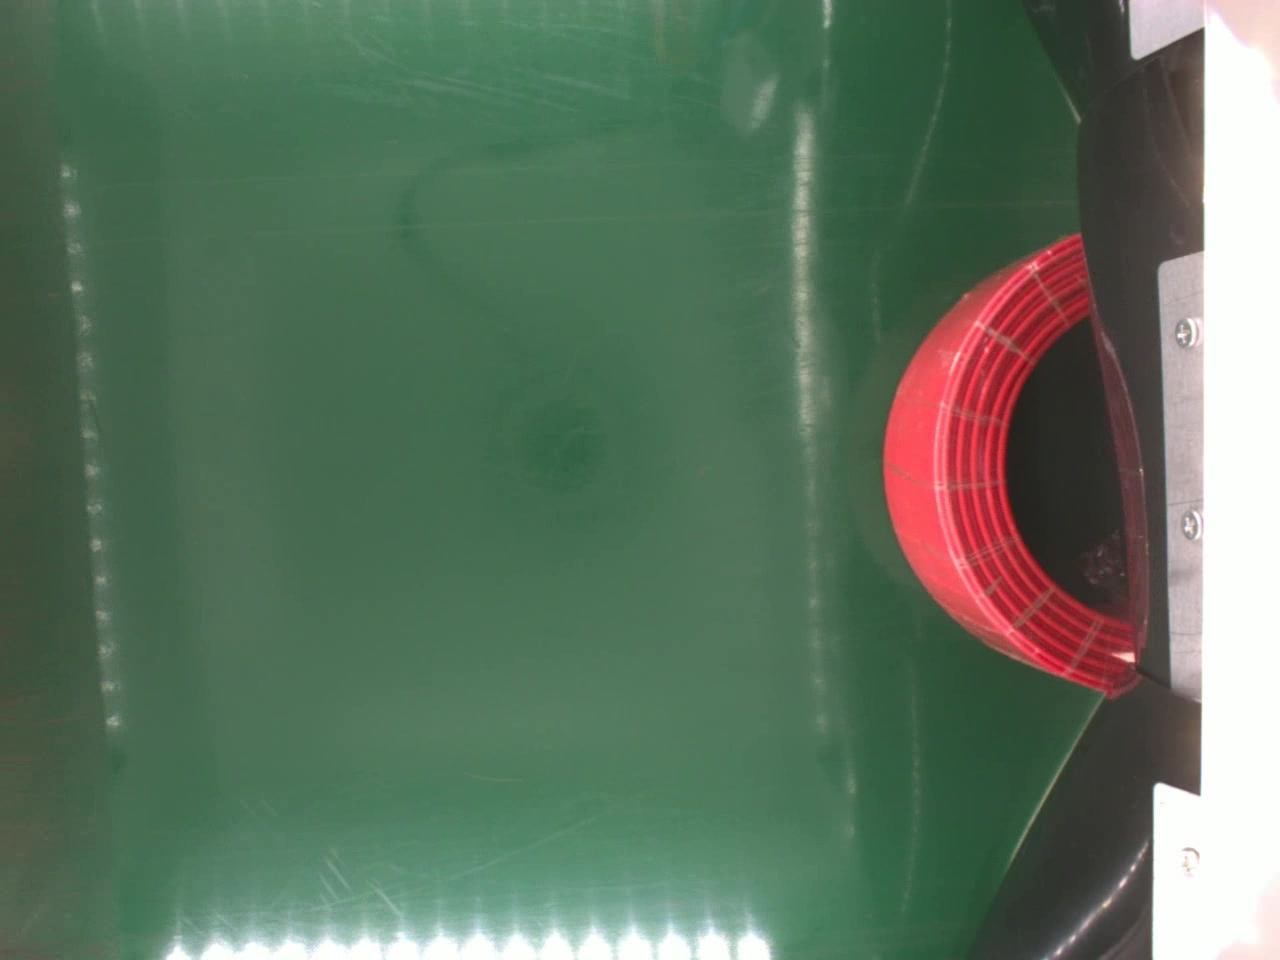red: (881, 228, 1139, 697)
